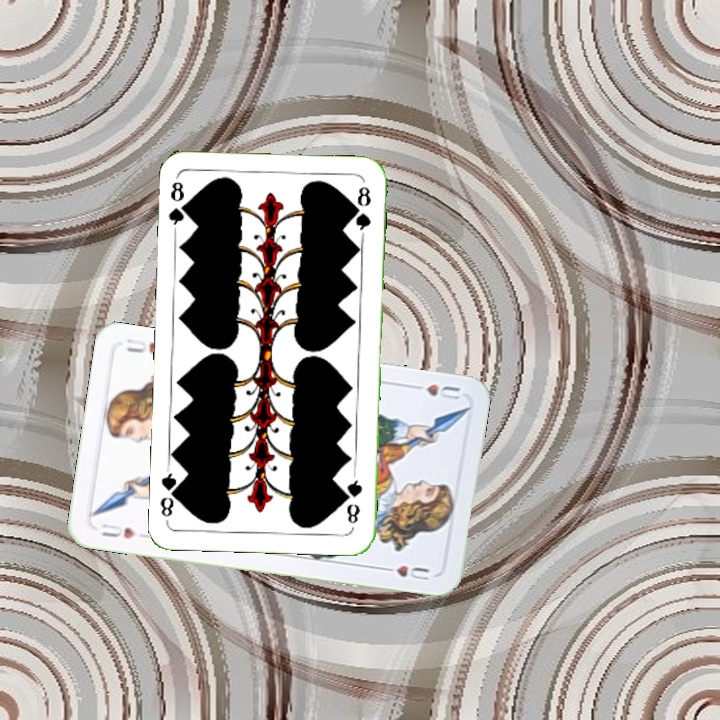G8: (165, 174, 192, 234), (342, 470, 364, 526)
HU: (406, 380, 463, 402), (96, 519, 138, 541)
